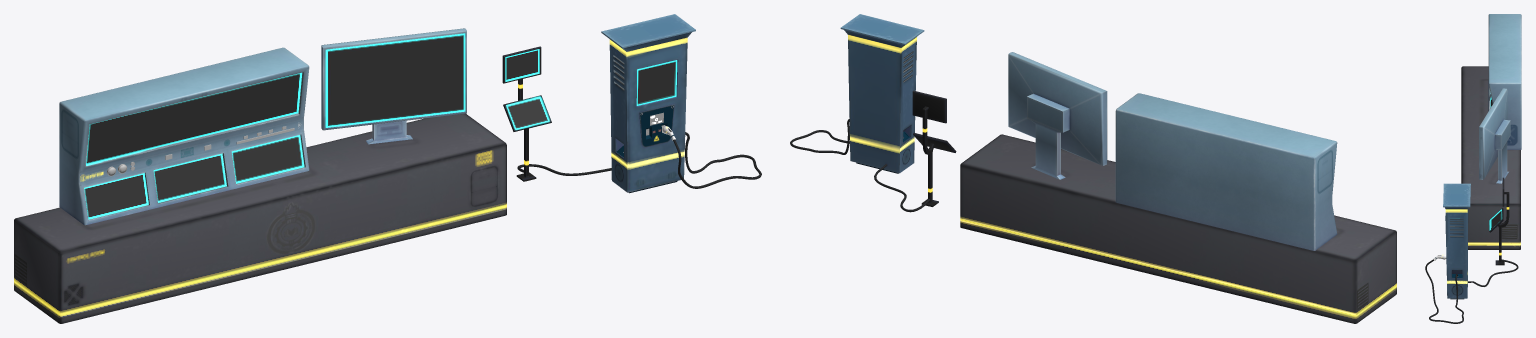
File: Props2.fbx
3 renders of one model, left to right at view 1: azimuth 30°, elevation 25°; view 2: azimuth 150°, elevation 25°; view 3: azimuth 270°, elevation 25°, orthographic. The views are drawn at different scales.
Visible parts, largest first — view 1: MesaPaneles, Panel1, Panel2, Planta, Panel4, CableCargador; view 2: MesaPaneles, Panel1, Planta, Panel2, Panel4, CableCargador; view 3: MesaPaneles, Panel1, Planta, Panel2, Panel4, CableCargador, Cable1.
Part boxes in pixels (bbox=[...]): MesaPaneles: bbox=[14, 113, 506, 323]; Panel1: bbox=[59, 47, 309, 225]; Panel2: bbox=[321, 28, 466, 144]; Planta: bbox=[601, 14, 695, 193]; Panel4: bbox=[502, 46, 551, 181]; CableCargador: bbox=[673, 132, 761, 188]; MesaPaneles: bbox=[960, 134, 1396, 323]; Panel1: bbox=[1115, 93, 1337, 250]; Planta: bbox=[840, 14, 924, 173]; Panel2: bbox=[1008, 52, 1107, 179]; Panel4: bbox=[912, 90, 956, 206]; CableCargador: bbox=[790, 119, 849, 154]; MesaPaneles: bbox=[1461, 66, 1520, 249]; Panel1: bbox=[1488, 14, 1521, 149]; Planta: bbox=[1443, 183, 1470, 299]; Panel2: bbox=[1479, 88, 1510, 183]; Panel4: bbox=[1489, 177, 1509, 265]; CableCargador: bbox=[1425, 259, 1463, 323]; Cable1: bbox=[1468, 259, 1518, 286].
Size of the model in its own units: 921 by 231 by 176.
